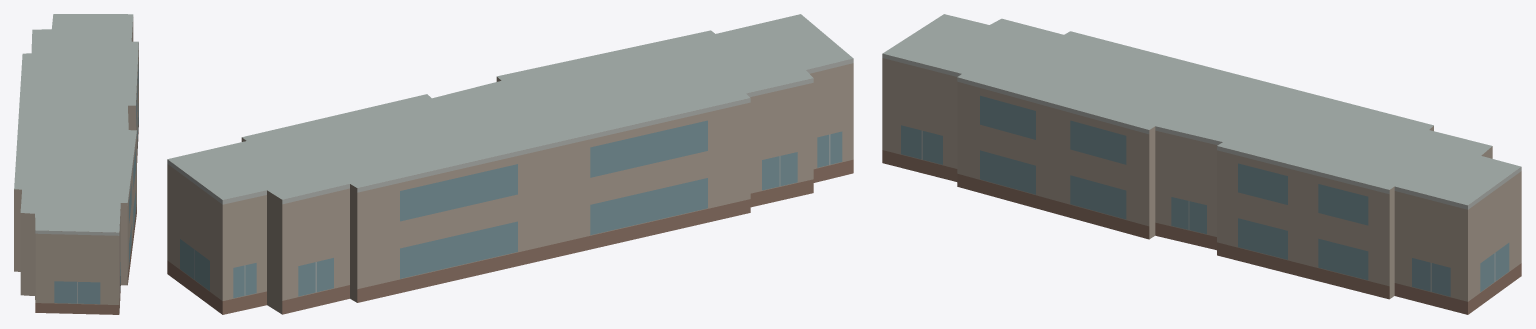
Rendered from survey-upis-32871598.glb.
3 renders of one model, left to right at view 1: azimuth 30°, elevation 25°; view 2: azimuth 150°, elevation 25°; view 3: azimuth 270°, elevation 25°, orthographic. The views are drawn at different scales.
Parts seen in each view (by area): view 1: survey-upis-32871598.tmp; view 2: survey-upis-32871598.tmp; view 3: survey-upis-32871598.tmp.
Boxes of the visible parts, x1,y1,x2,y2 form: survey-upis-32871598.tmp: [14, 14, 138, 314]; survey-upis-32871598.tmp: [167, 14, 853, 314]; survey-upis-32871598.tmp: [882, 14, 1521, 314].
Bounding box in the file's own units: 22.89 × 6.1 × 32.29.
